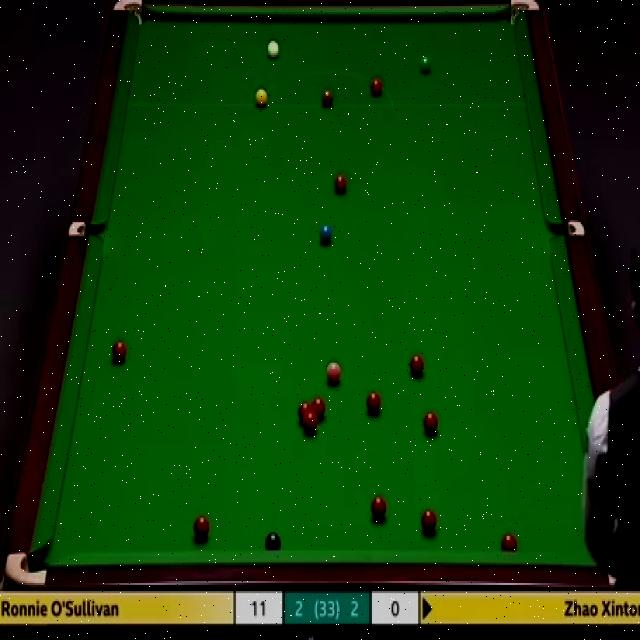black-ball: (264, 529, 280, 549)
blue-ball: (318, 224, 334, 245)
brown-ball: (321, 85, 333, 106)
green-ball: (416, 53, 432, 75)
pink-ball: (326, 362, 342, 387)
red-ball: (423, 409, 439, 438), (370, 495, 387, 520), (366, 389, 382, 414), (421, 512, 439, 534), (112, 340, 126, 368), (192, 517, 209, 540), (499, 534, 520, 552), (298, 401, 312, 427), (312, 397, 326, 421), (368, 76, 384, 97), (409, 354, 424, 375), (332, 174, 347, 194), (304, 414, 318, 434)
white-ball: (268, 38, 279, 61)
yellow-ball: (254, 89, 268, 107)
